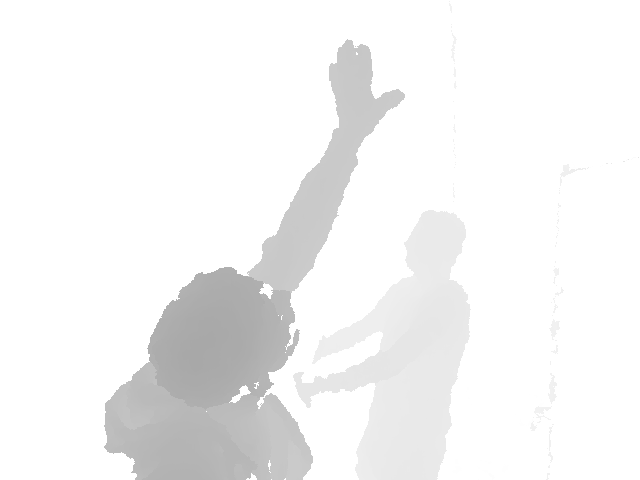hand: (329, 38, 406, 136)
head: (146, 266, 300, 410), (403, 209, 467, 283)
person: (103, 38, 408, 479), (292, 208, 470, 480)
